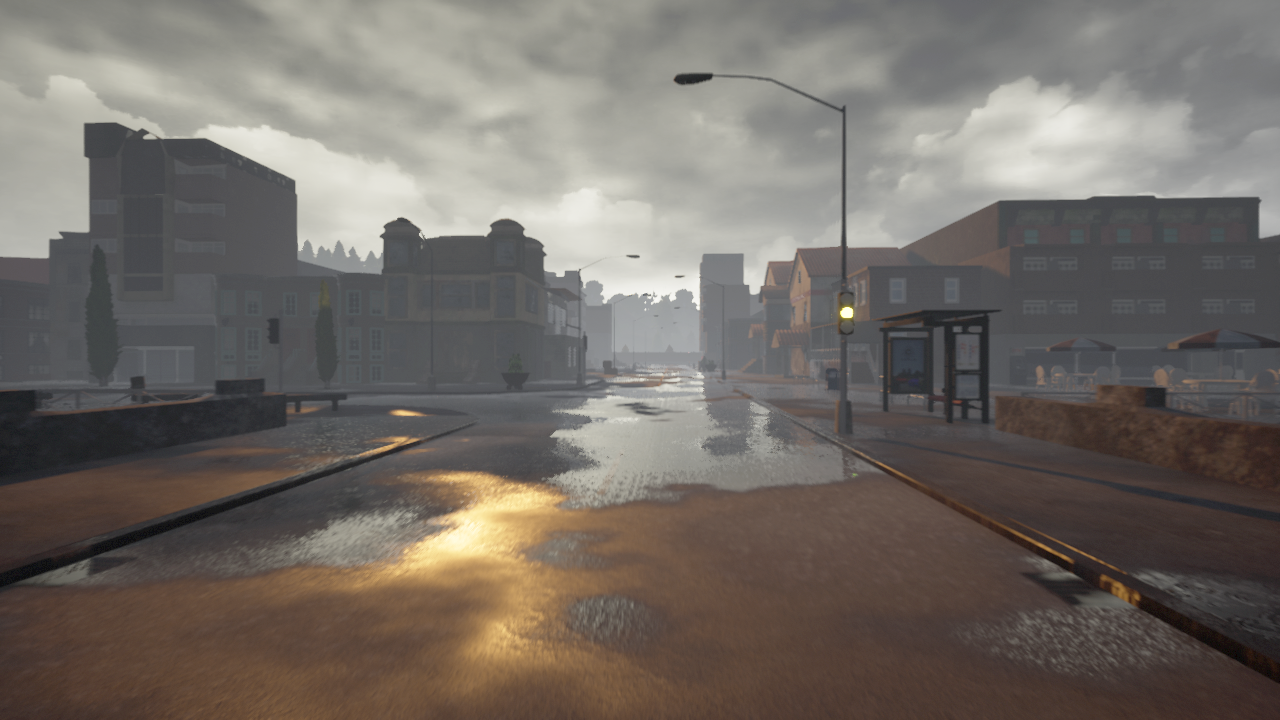yellow: (837, 288, 855, 340)
